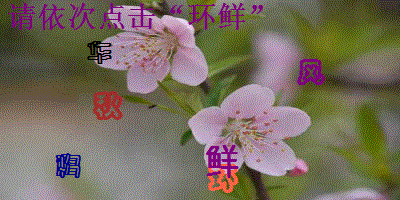text: (205, 144, 241, 178), (206, 162, 243, 194), (92, 90, 124, 121), (296, 58, 327, 87), (53, 153, 83, 180), (85, 40, 113, 65)
